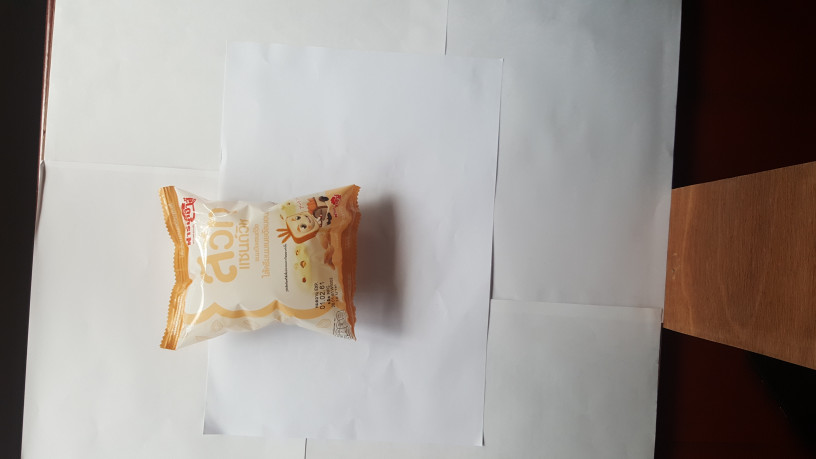farmhouse-sweetsandwich-almond: (151, 174, 371, 357)
